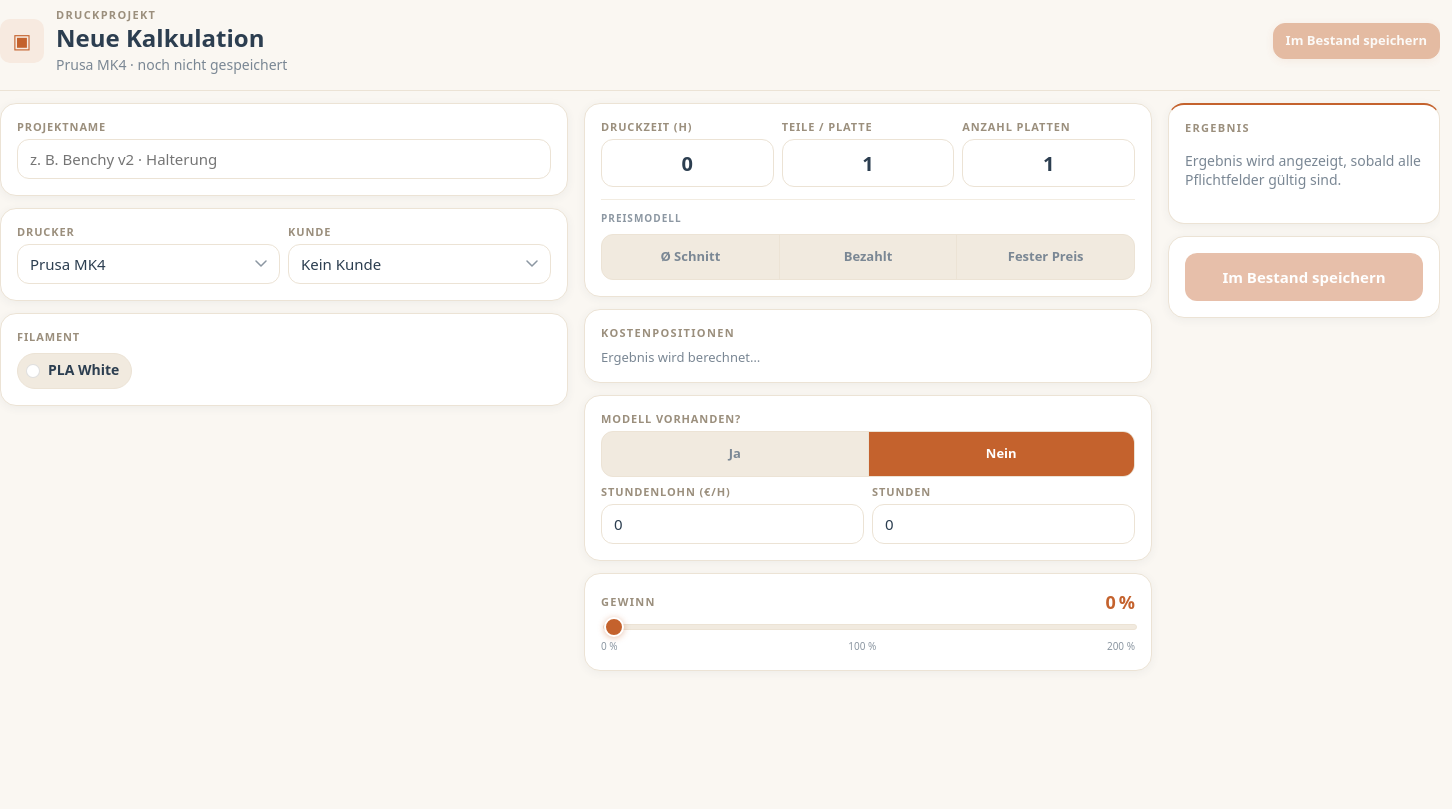
Scenario: CalculateComponent › renders German result labels and a dominant final Preis display
Type "Halterung" into the field with test id "project-name" at (284, 159), box 17,139 -> 551,179
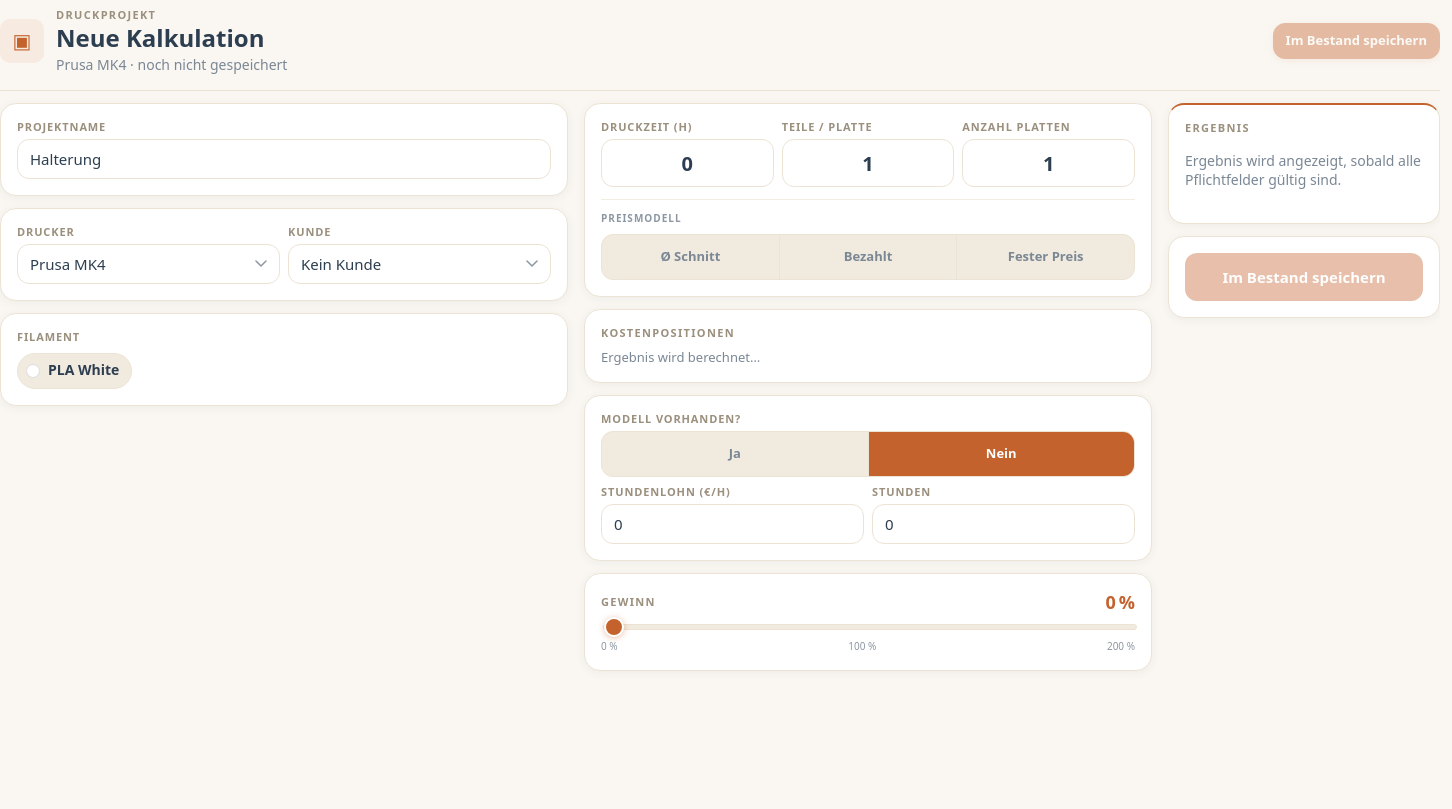
Replace the text in the number field with test id "print-hours" with "1" at (687, 163), box 601,139 -> 774,187
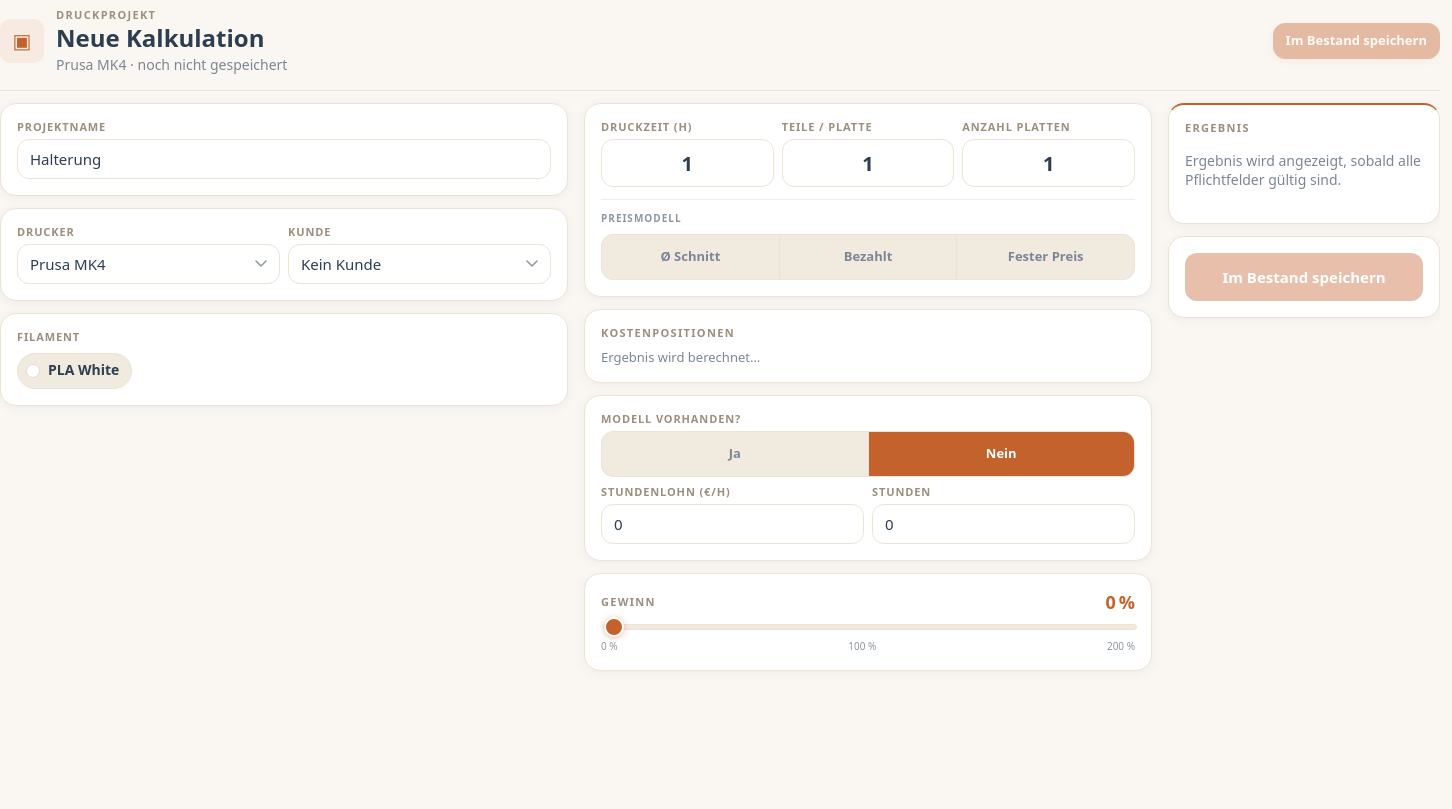
Click the button with test id "filament-chip" at (75, 371), box 17,353 -> 132,389
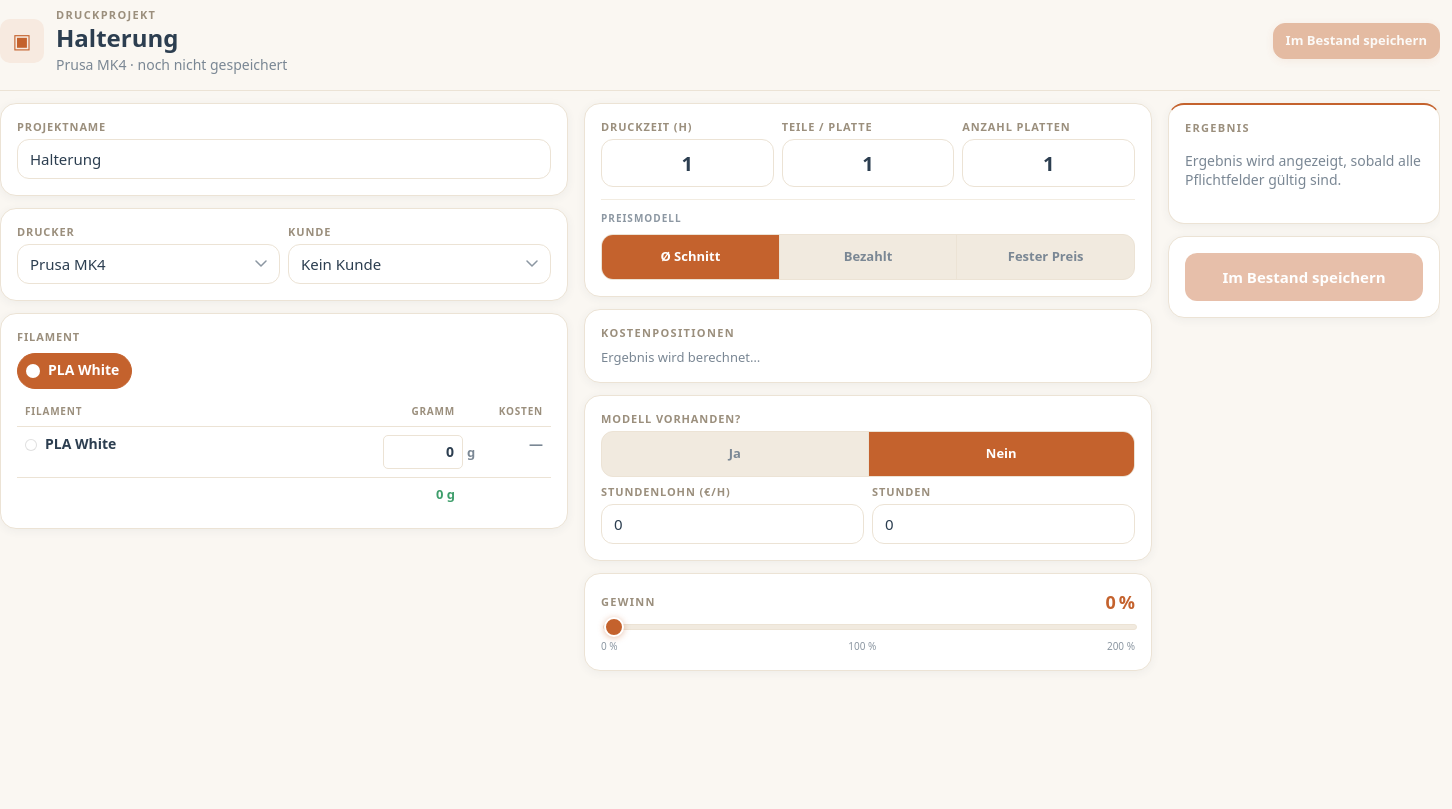
Replace the text in the number field with test id "filament-grams" with "10" at (423, 452), box 383,435 -> 463,469
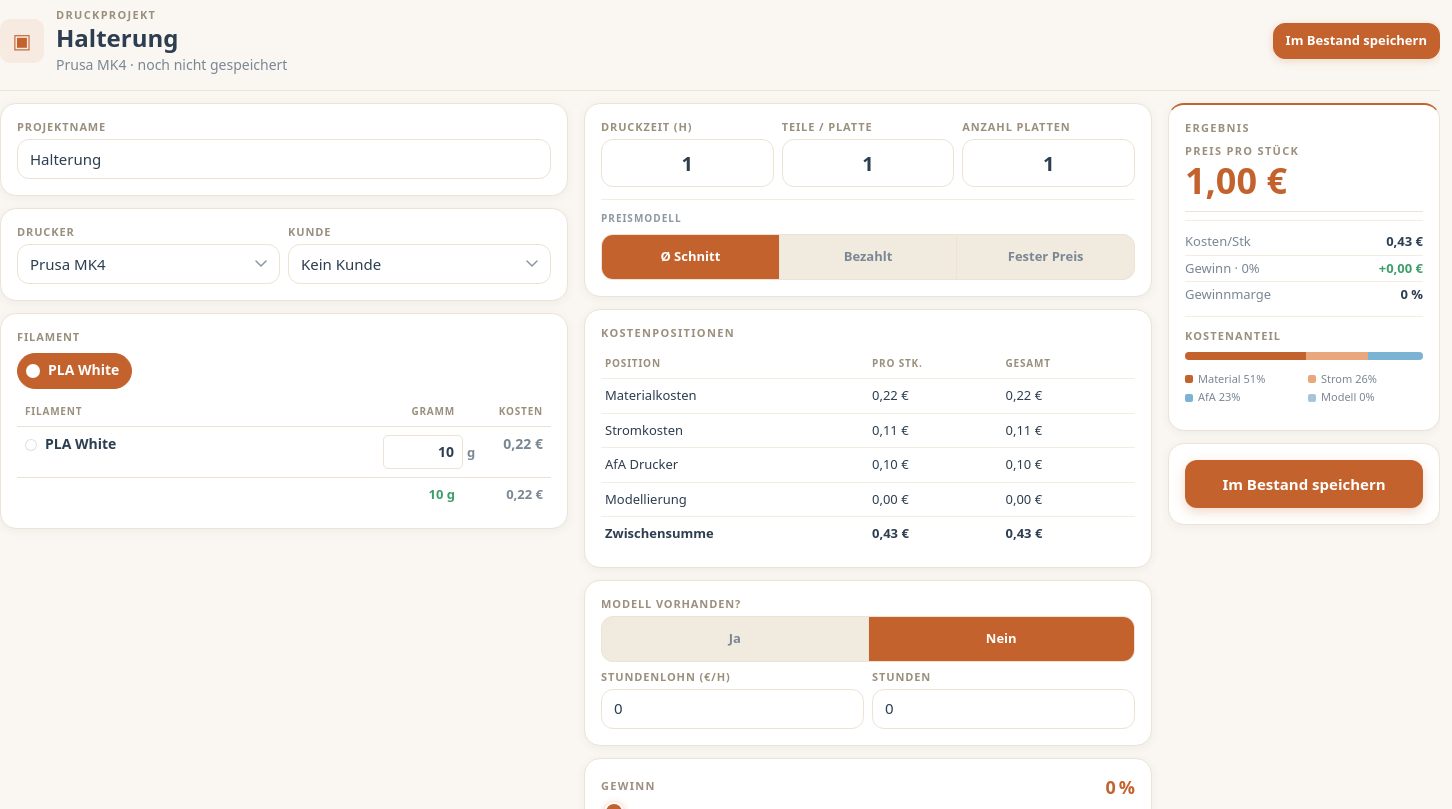
Check: the text "Materialkosten" is shown, box 601,379 -> 868,413
Check: the text "Stromkosten" is shown, box 601,413 -> 868,448
Check: the text "AfA" is shown, box 605,455 -> 678,473
